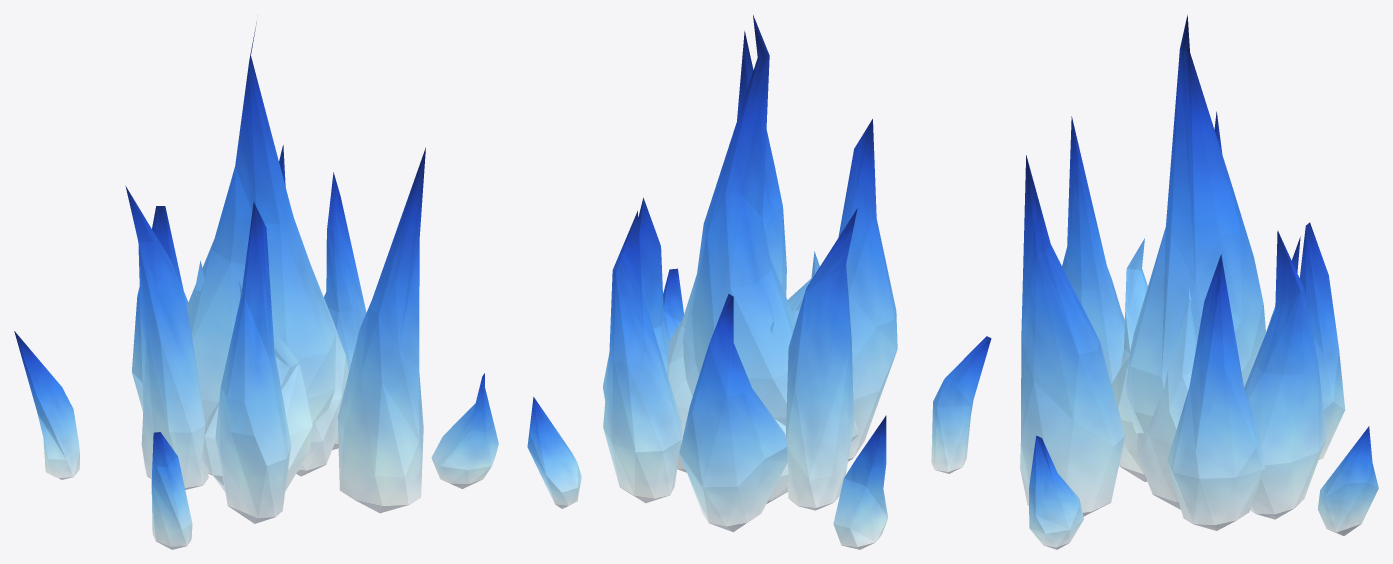
The model's file is flame_blue.glb.
3 renders of one model, left to right at view 1: azimuth 30°, elevation 25°; view 2: azimuth 150°, elevation 25°; view 3: azimuth 270°, elevation 25°, orthographic.
Bounding box in the file's own units: 0.8245 × 1.07 × 0.7139.
1 material, 1 textured.
